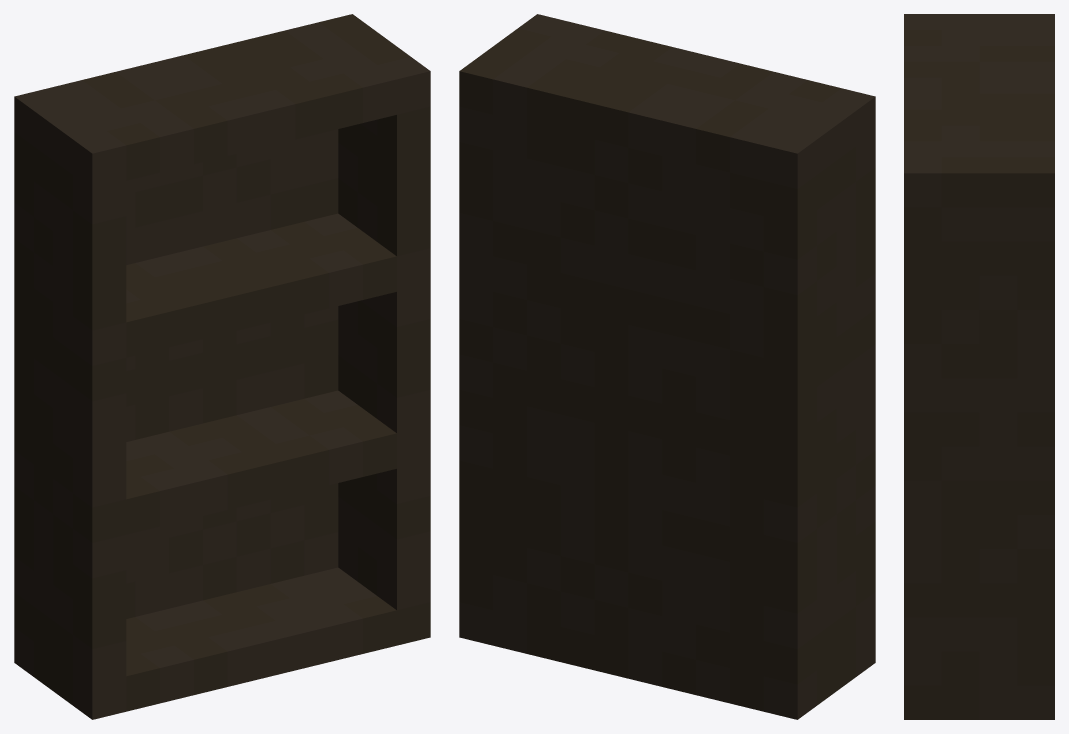
Rendered from tavern-36-bookshelf_empty.obj.
The picture shows the model from 3 angles, left to right: view 1: azimuth 30°, elevation 25°; view 2: azimuth 150°, elevation 25°; view 3: azimuth 270°, elevation 25°; orthographic projection. The views are drawn at different scales.
Visible parts, largest first — view 1: bookshelf_empty; view 2: bookshelf_empty; view 3: bookshelf_empty.
Part boxes in pixels (bbox=[...]): bookshelf_empty: bbox=[14, 14, 430, 719]; bookshelf_empty: bbox=[459, 14, 875, 719]; bookshelf_empty: bbox=[904, 14, 1054, 719].
Size of the model in its own units: 1 by 1.6 by 0.4.
1 material, 1 textured.
